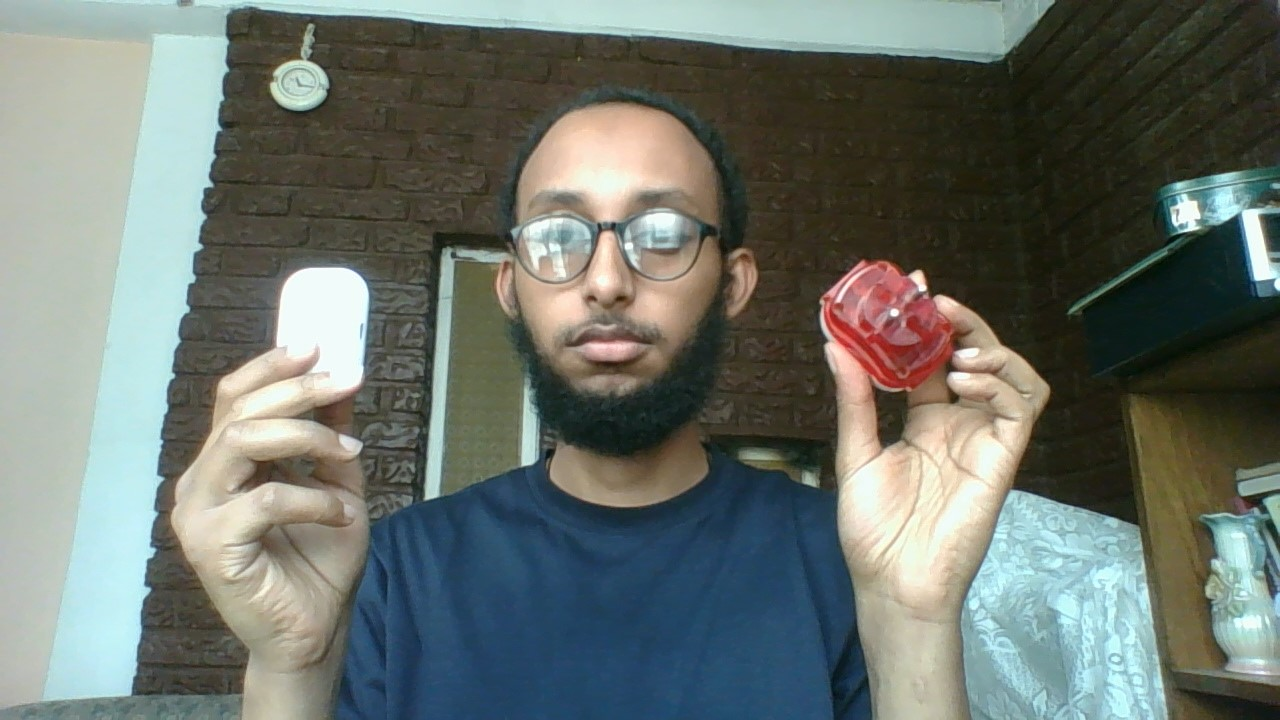Air_pod: (269, 261, 376, 399)
Multi_adapter: (817, 254, 959, 398)
